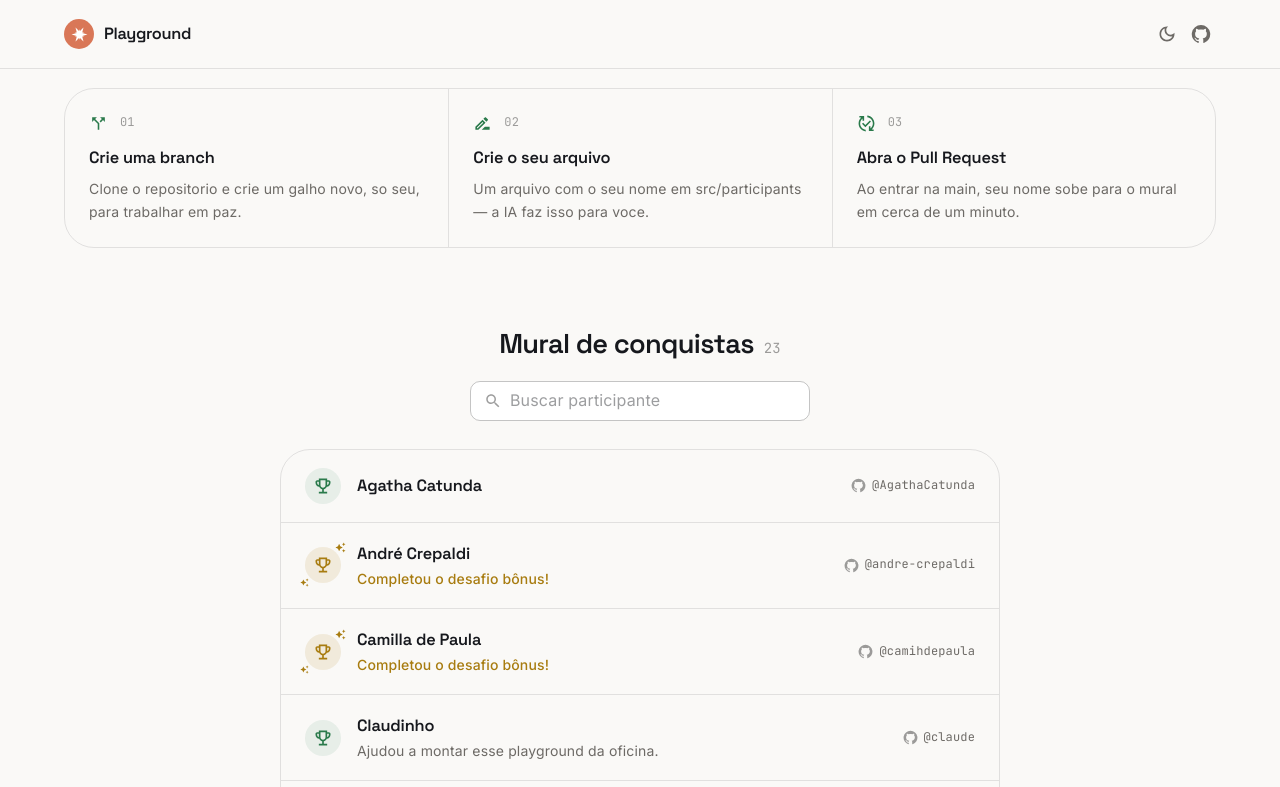
Test: home page › filters the list as the user types
(page scrolled)
Type "zzz" into the field with placeholder "Buscar participante" at (660, 401), box top-left (510, 381), bottom-right (810, 421)
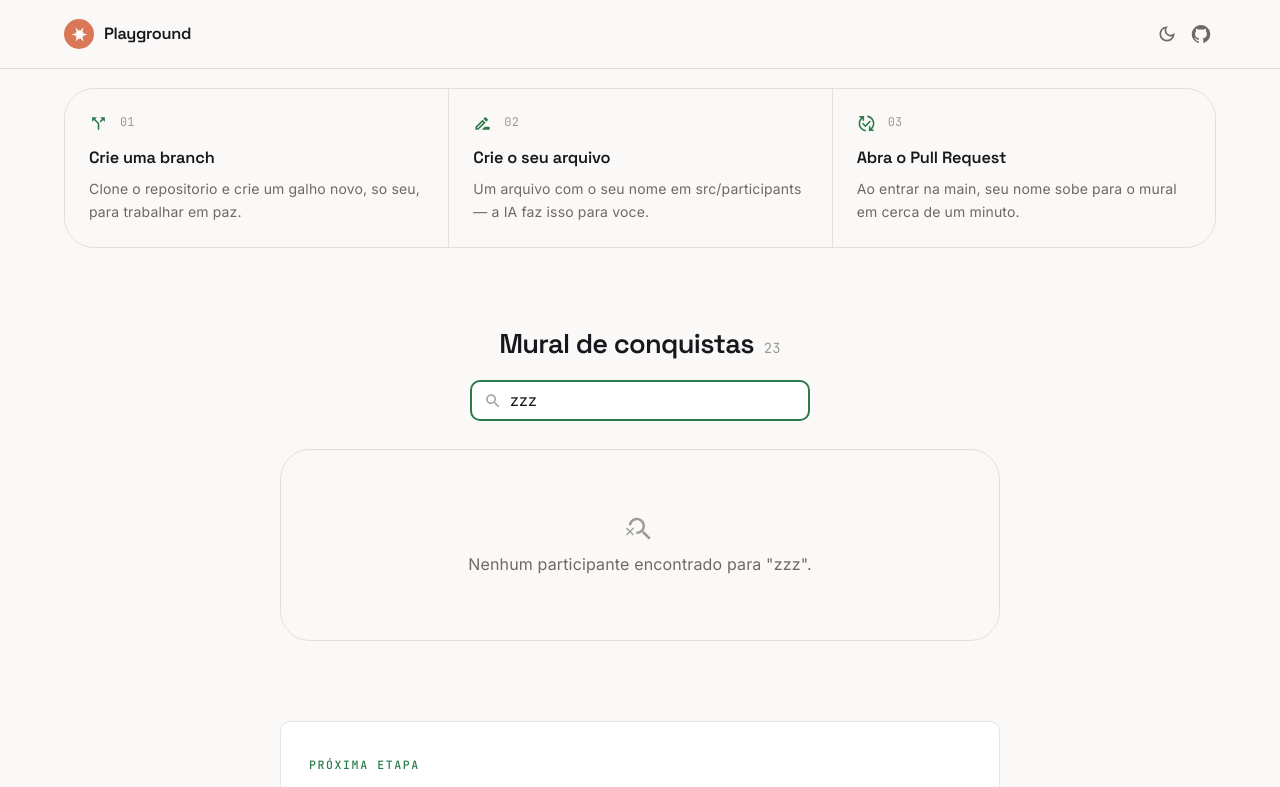
Result: the heading "Agatha Catunda" is gone
Result: the text "Nenhum participante encontrado para \"zzz\"." is shown at top-left (468, 552), bottom-right (812, 576)
